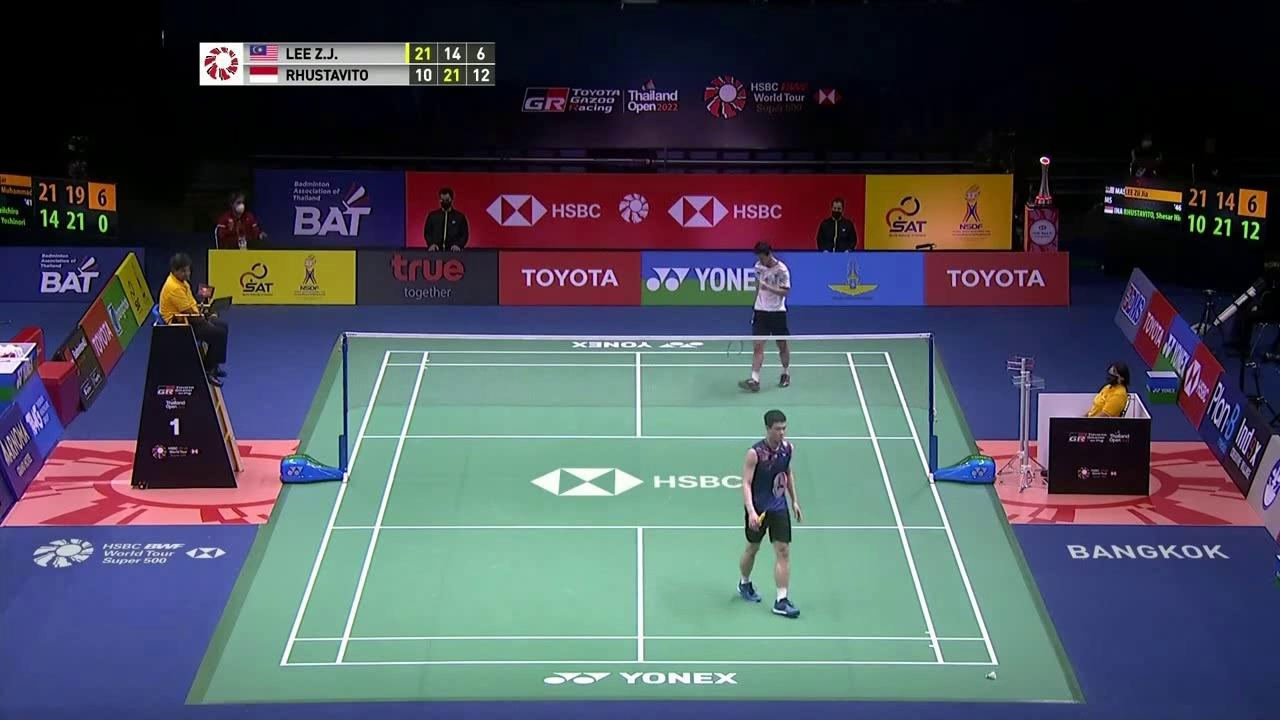racket: (756, 470, 789, 526), (726, 313, 758, 359)
shuttle: (984, 667, 998, 682)
